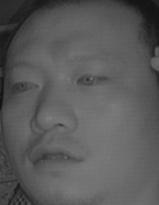eye: (74, 68, 110, 91), (11, 75, 42, 96)
mouth: (21, 139, 82, 175)
